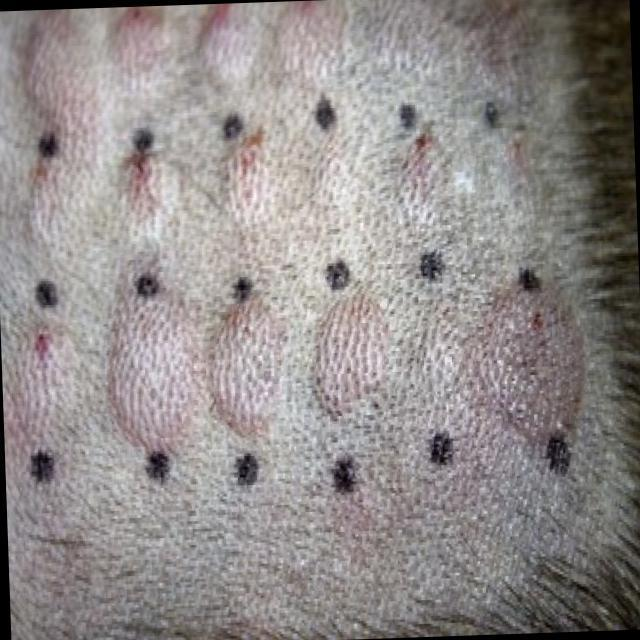allergic dermatitis: (30, 298, 588, 442), (25, 2, 351, 78), (26, 38, 101, 248)
